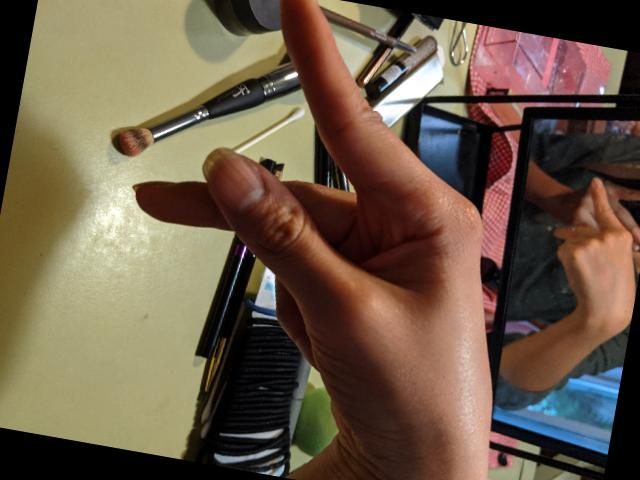P: (85, 0, 574, 480)
